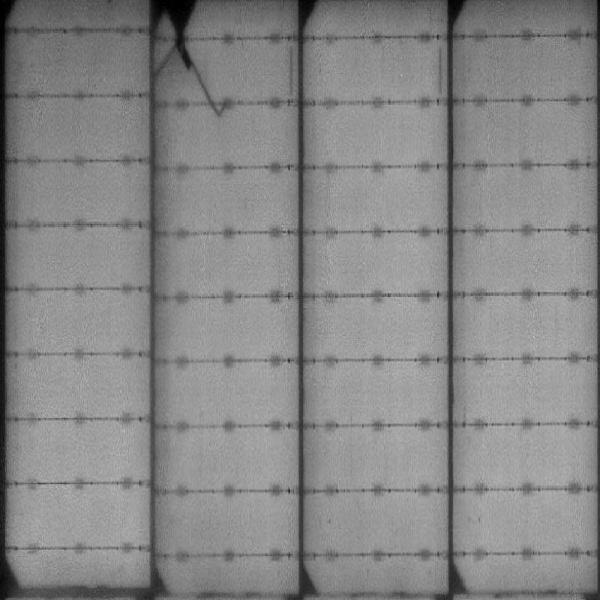broken: (151, 1, 226, 119)
scratch: (433, 48, 445, 92), (286, 45, 295, 90)
